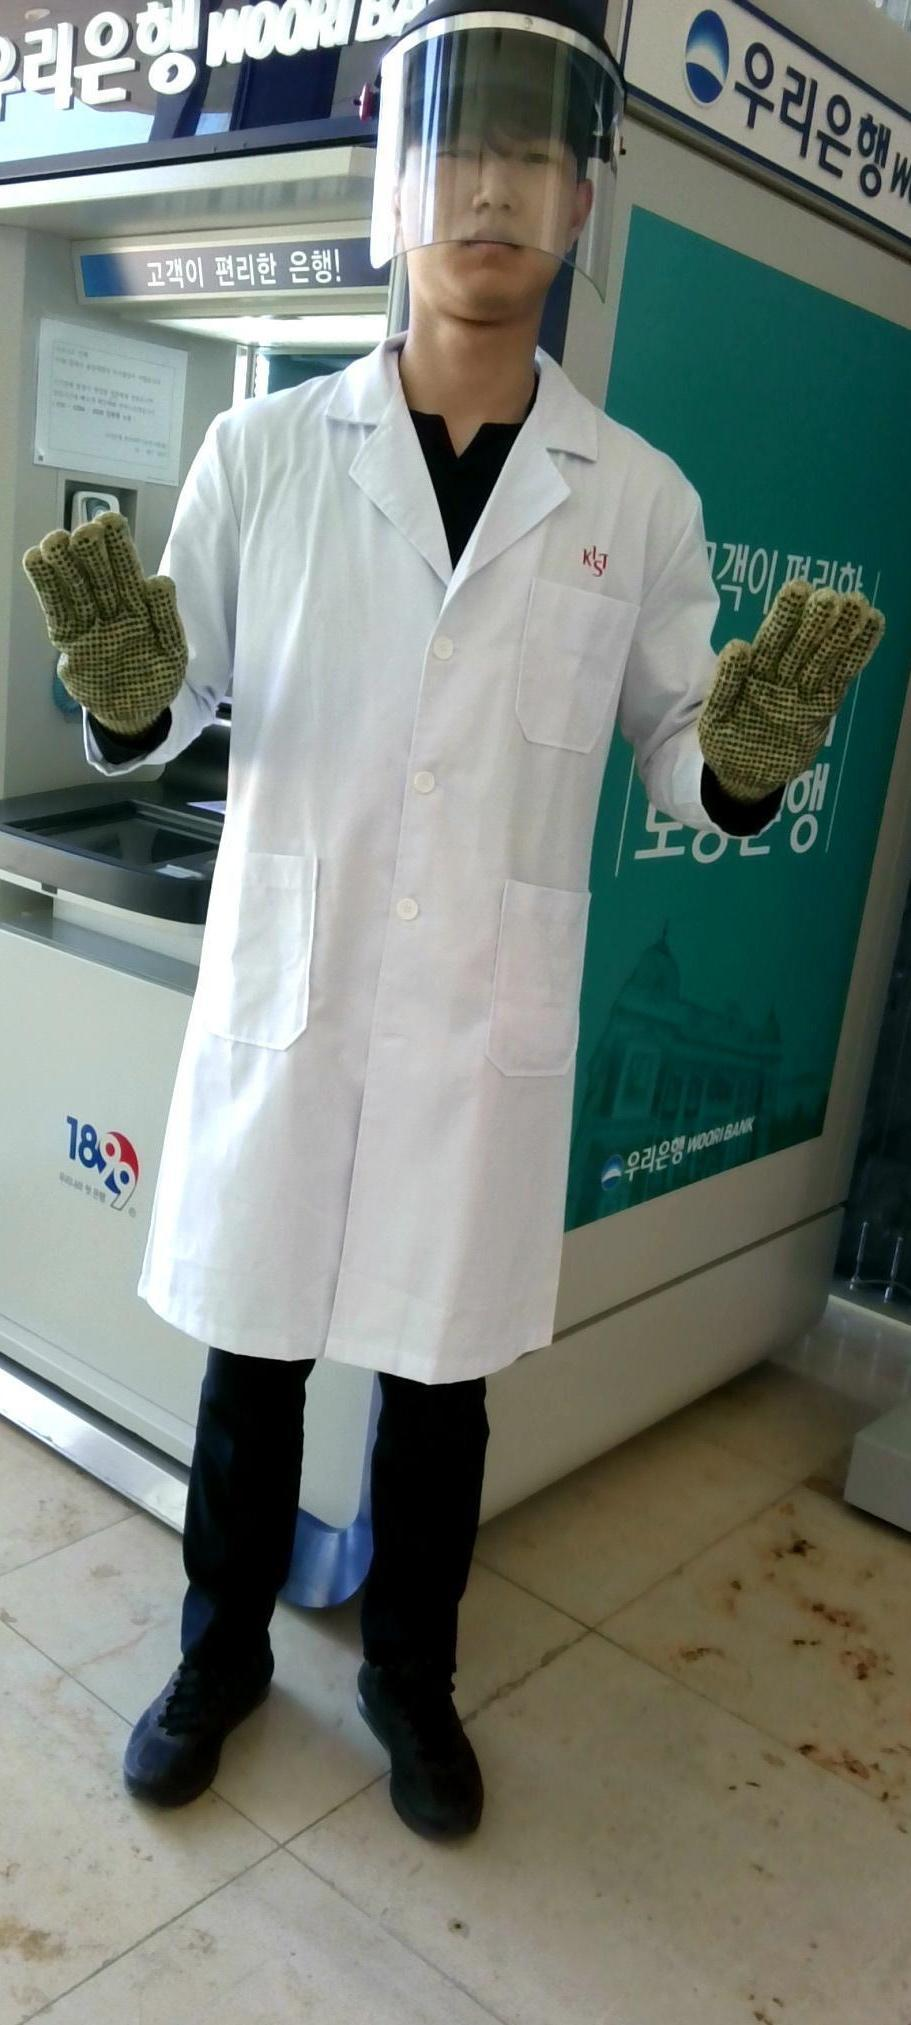lab_coat: (169, 431, 706, 1342)
